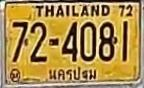0: (79, 21, 96, 60)
1: (122, 21, 127, 61)
2: (30, 22, 46, 62)
4: (61, 21, 77, 61)
7: (12, 21, 27, 61)
8: (98, 21, 116, 60)
NPT: (46, 65, 101, 82)
